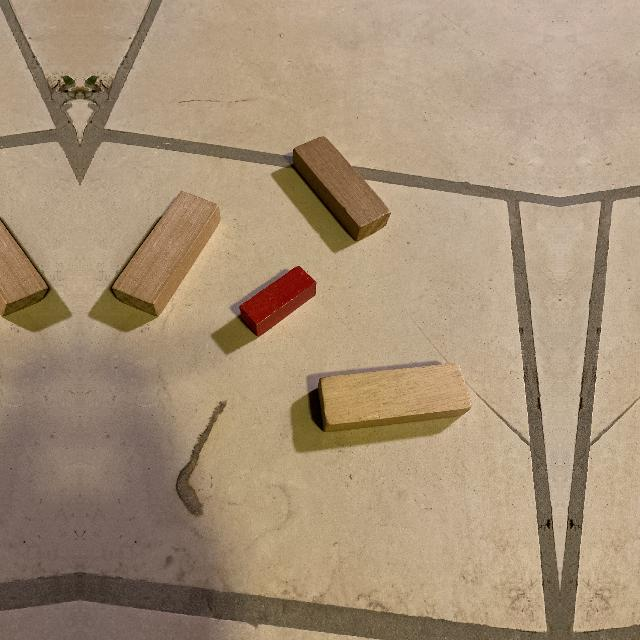jenga: (112, 191, 221, 317), (316, 363, 472, 430), (291, 137, 390, 242), (0, 220, 48, 317)
red block: (239, 266, 317, 337)
